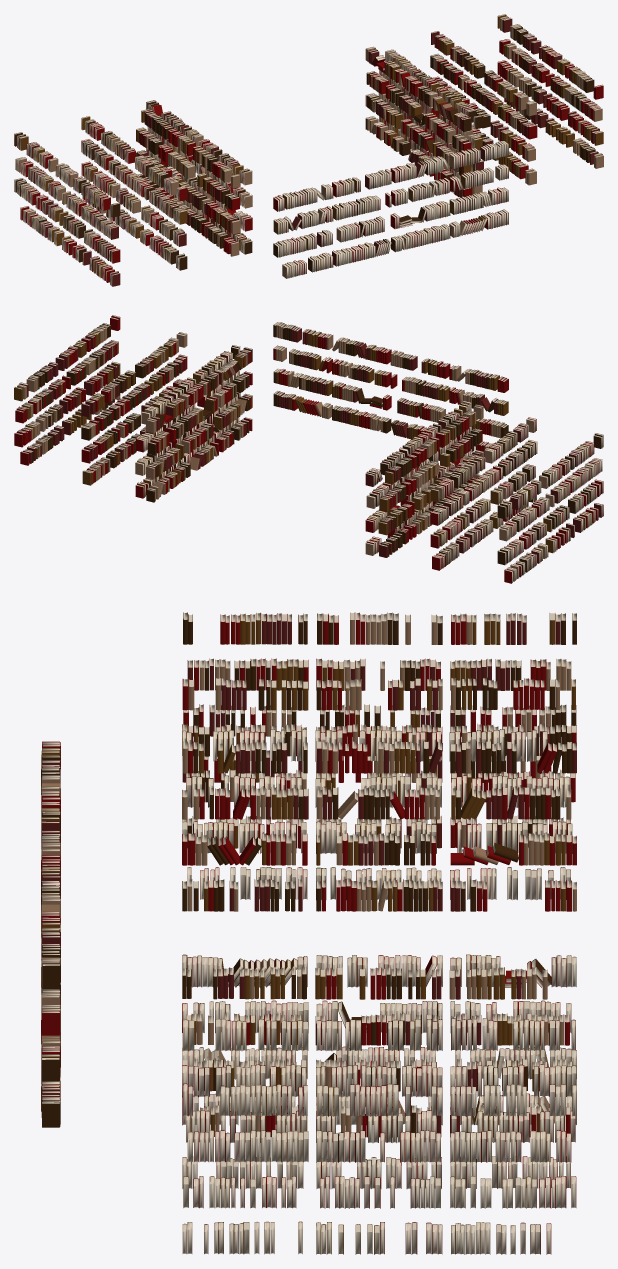
Rendered from books4.glb.
The picture shows the model from 3 angles, top to bottom: view 1: azimuth 30°, elevation 25°; view 2: azimuth 150°, elevation 25°; view 3: azimuth 270°, elevation 25°; orthographic projection. The views are drawn at different scales.
Parts seen in each view (by area): view 1: books5, books_nice_back_2, books4, books_nice_back, books7; view 2: books5, books4, books_nice_back_2, books_nice_back, books7; view 3: books5, books_nice_back, books4, books7, books_nice_back_2.
Boxes of the visible parts, left/top/right/bottom form: books5: left=14, top=14, right=603, bottom=286; books_nice_back_2: left=273, top=140, right=508, bottom=278; books4: left=81, top=31, right=537, bottom=270; books_nice_back: left=146, top=46, right=471, bottom=254; books7: left=136, top=49, right=483, bottom=256; books5: left=14, top=315, right=603, bottom=583; books4: left=81, top=332, right=537, bottom=570; books_nice_back_2: left=273, top=322, right=508, bottom=456; books_nice_back: left=146, top=347, right=471, bottom=555; books7: left=135, top=345, right=483, bottom=557; books5: left=182, top=612, right=576, bottom=1254; books_nice_back: left=182, top=741, right=576, bottom=1125; books4: left=182, top=677, right=576, bottom=1188; books7: left=182, top=729, right=572, bottom=1137; books_nice_back_2: left=41, top=741, right=60, bottom=1127.
Bounding box in the file's own units: 20.59 × 3.27 × 9.71.
1 material, 1 textured.
